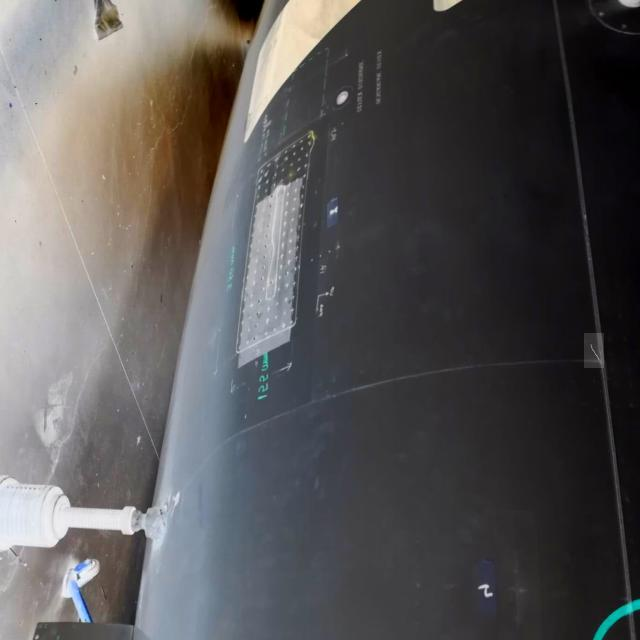crack: (585, 334, 605, 369)
